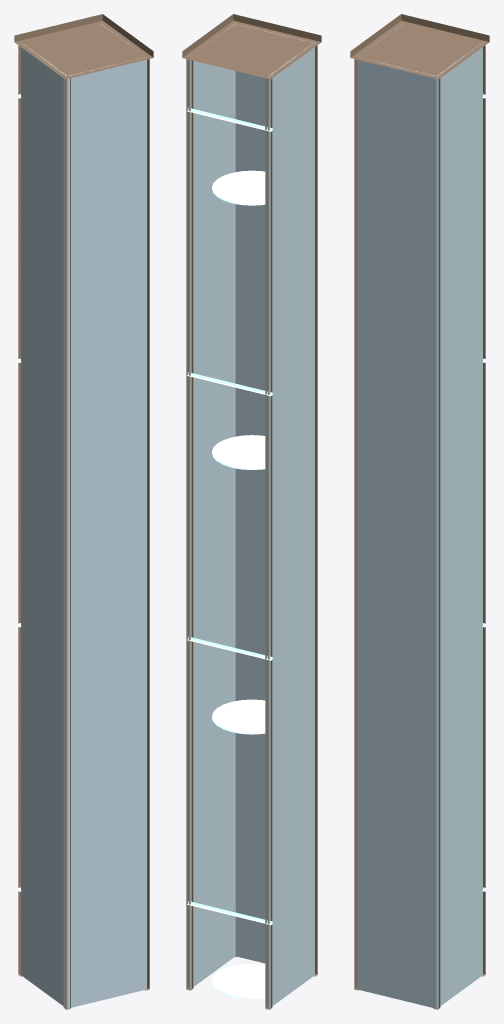
Rendered from shaft.glb.
The picture shows the model from 3 angles, left to right: view 1: azimuth 30°, elevation 25°; view 2: azimuth 150°, elevation 25°; view 3: azimuth 330°, elevation 25°; orthographic projection.
Parts seen in each view (by area): view 1: glass, posts; view 2: glass, posts, pads, rings; view 3: glass, posts.
Part boxes in pixels (x1,y1,x2,y2): glass: (21,24,146,1008); posts: (14,14,153,1009); glass: (189,23,314,1008); posts: (182,14,321,1009); pads: (212,170,265,998); rings: (186,107,272,924); glass: (357,24,482,1008); posts: (350,14,489,1009).
Size of what is drawn, in the model's own units: 2.8 by 28.4 by 2.8.
